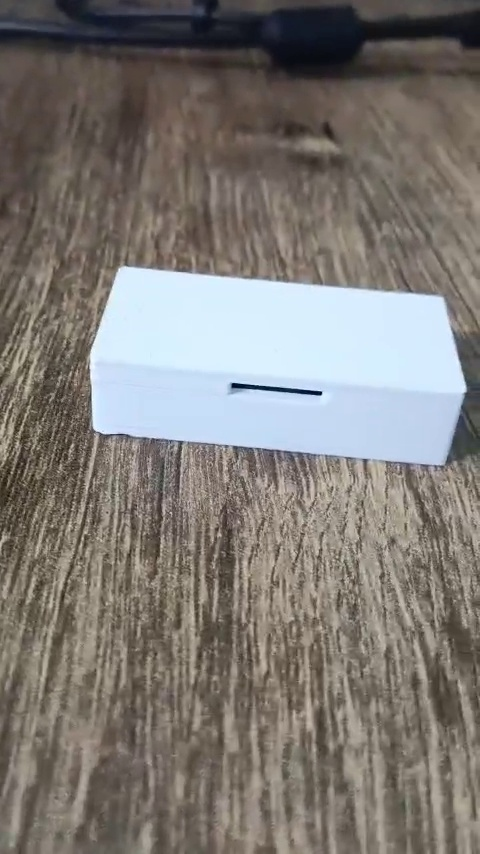enclosure: (87, 266, 468, 467)
